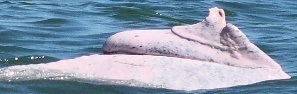fin: (4, 5, 292, 89)
